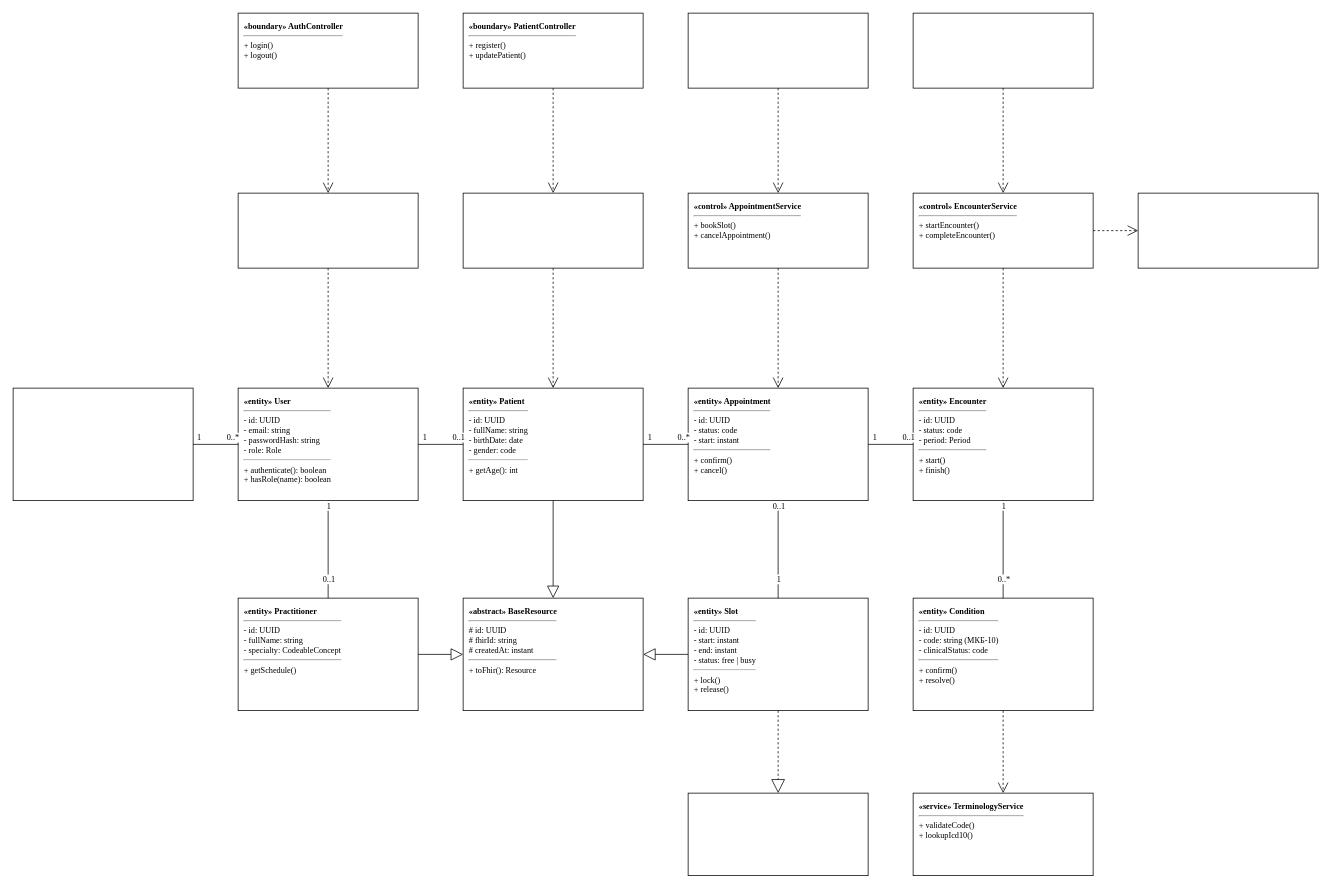
Some shapes in this 1331 by 889 pixel diagram are drawn without their labels. Each missing label, with the box of its shape:
«boundary» AppointmentController + getSlots() + book() + cancel(): (687, 12, 868, 88)
«boundary» EncounterController + start() + finish() + addCondition(): (912, 12, 1093, 88)
«control» AuthService + authenticate() + issueToken(): (237, 192, 418, 268)
«control» PatientService + createPatient() + updatePatient(): (462, 192, 643, 268)
«enumeration» Role GUEST PATIENT PRACTITIONER ADMIN: (12, 387, 193, 501)
«interface» Reservable + reserve(): boolean + release(): void: (687, 792, 868, 876)
«service» NotificationService + sendReminder() + publishEvent(): (1137, 192, 1318, 268)
